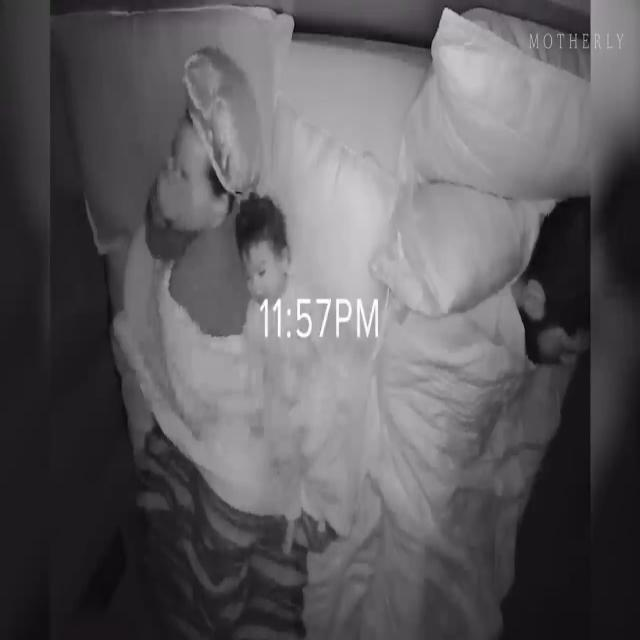baby: (231, 196, 342, 564)
